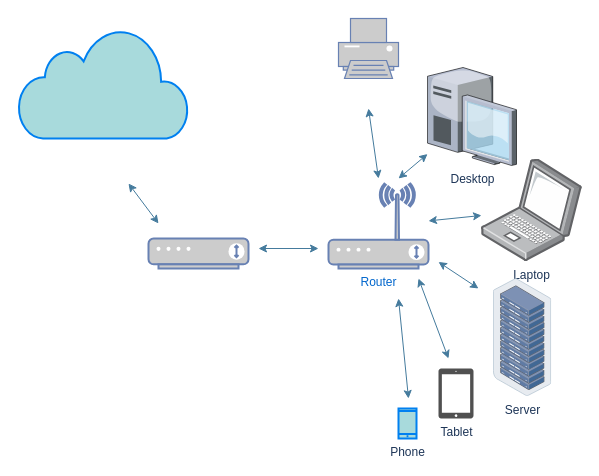
Some shapes in this 599 by 476 pixel diagram are drawn without their labels. Each missing label, with the centre of its shape:
"Internet" goes at point 103,83.
"Modem" goes at point 198,253.
"Printer" goes at point 368,48.
